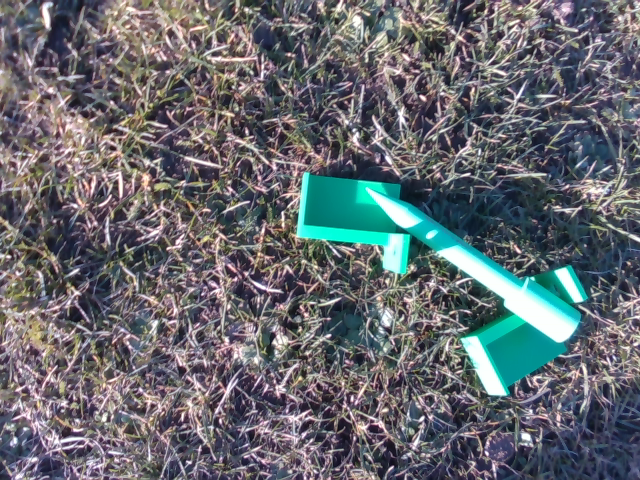Probe: (361, 181, 586, 351)
